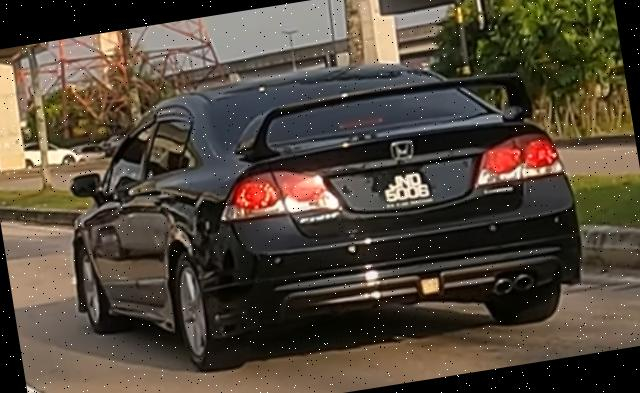License_Plate: (364, 165, 449, 212)
car: (45, 31, 594, 393)
